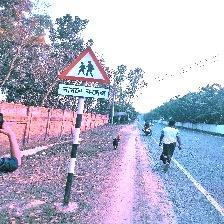College-in-front: (58, 48, 125, 110)
